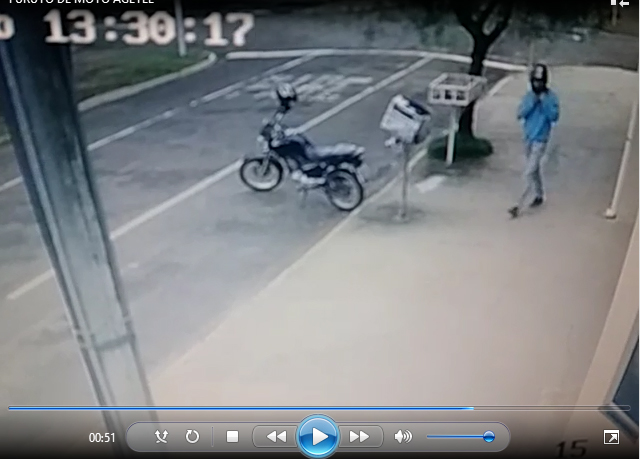Humano: (507, 57, 565, 230)
